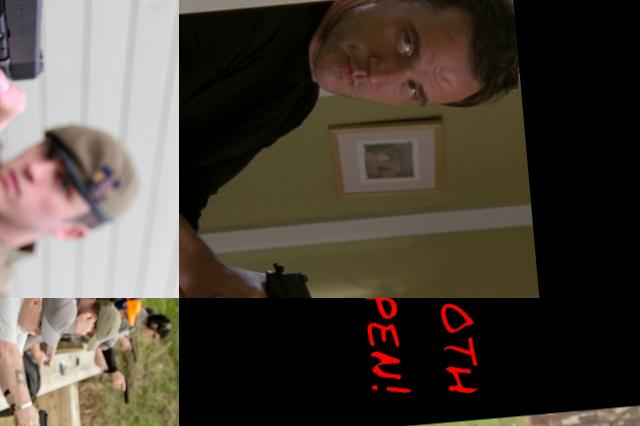handgun: (0, 0, 85, 92), (248, 255, 348, 298), (23, 408, 54, 426)
